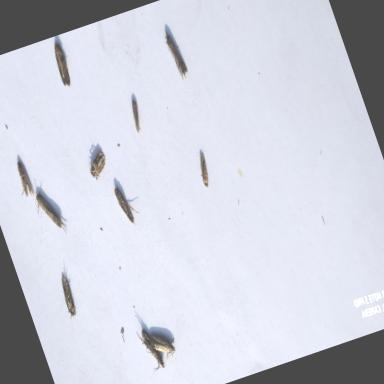pbw: (27, 184, 71, 240), (158, 22, 194, 82), (107, 178, 145, 230), (7, 149, 40, 207), (52, 269, 84, 328), (143, 320, 184, 364), (136, 326, 169, 376), (48, 37, 78, 89), (190, 144, 220, 194), (82, 146, 116, 184), (123, 92, 151, 137)
